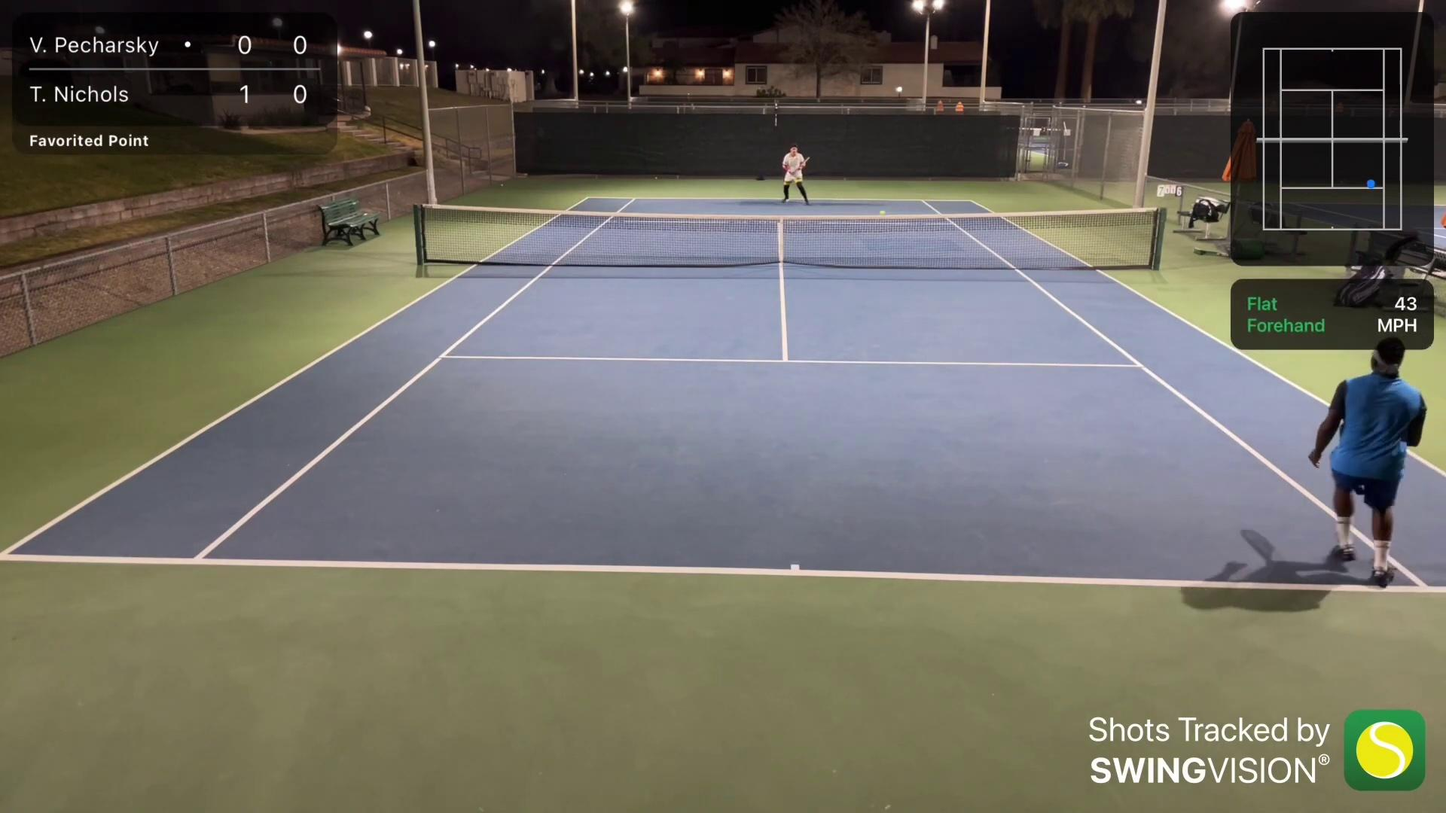ball: (879, 209, 885, 216)
